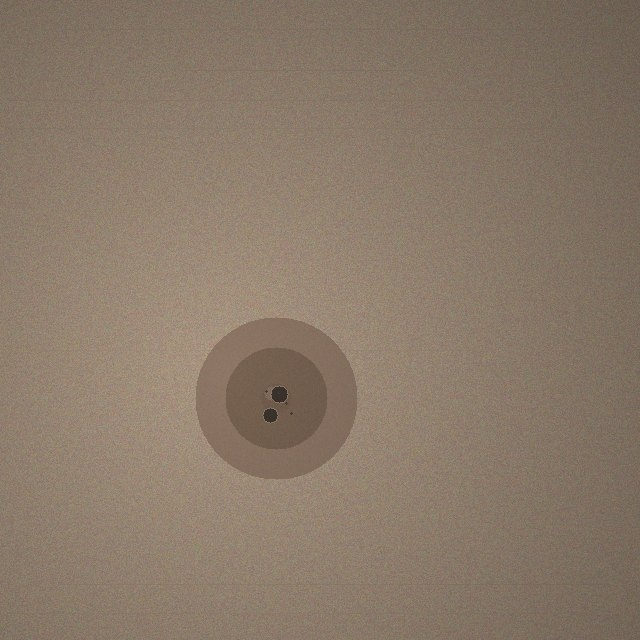shrinkage: (195, 317, 357, 479)
